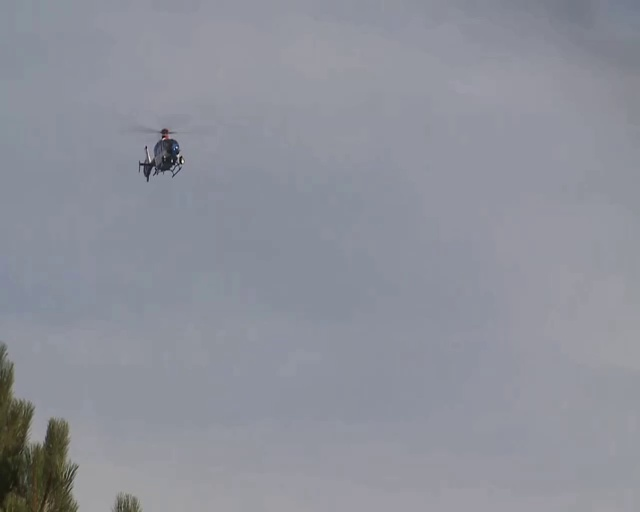HELICOPTER: (125, 125, 188, 182)
